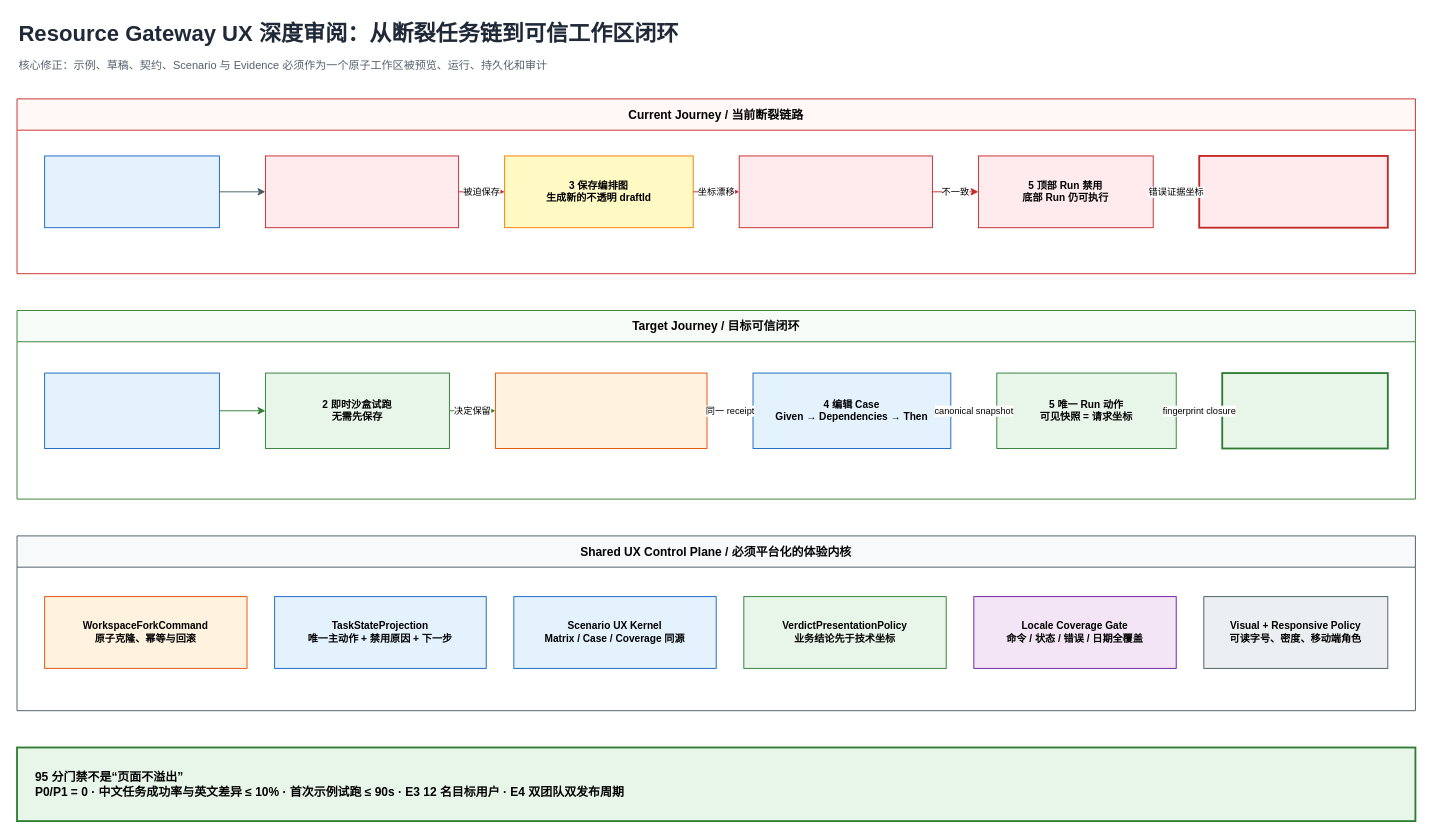
The diagram is 1432 pixels wide and 837 high, and some of its shapes have lost their labels. Each missing label, with the centre of its shape:
"1 载入完整示例 Graph + Contract + Cases" goes at (131,191).
"1 选择模板 预览能力与证明强度" goes at (131,410).
"2 用例不可打开 / 不可运行 禁用原因大多不可见" goes at (361,191).
"3 原子 Fork Workspace Graph + Contract + Suite + Fixture" goes at (600,410).
"4 Scenario 立即过期 Compatibility + Rebase" goes at (835,191).
"6 Evidence stale / incomplete 业务结果被治理错误遮蔽" goes at (1293,191).
"6 当前 Evidence Verdict → Diff → 修复 → Trace" goes at (1304,410).
